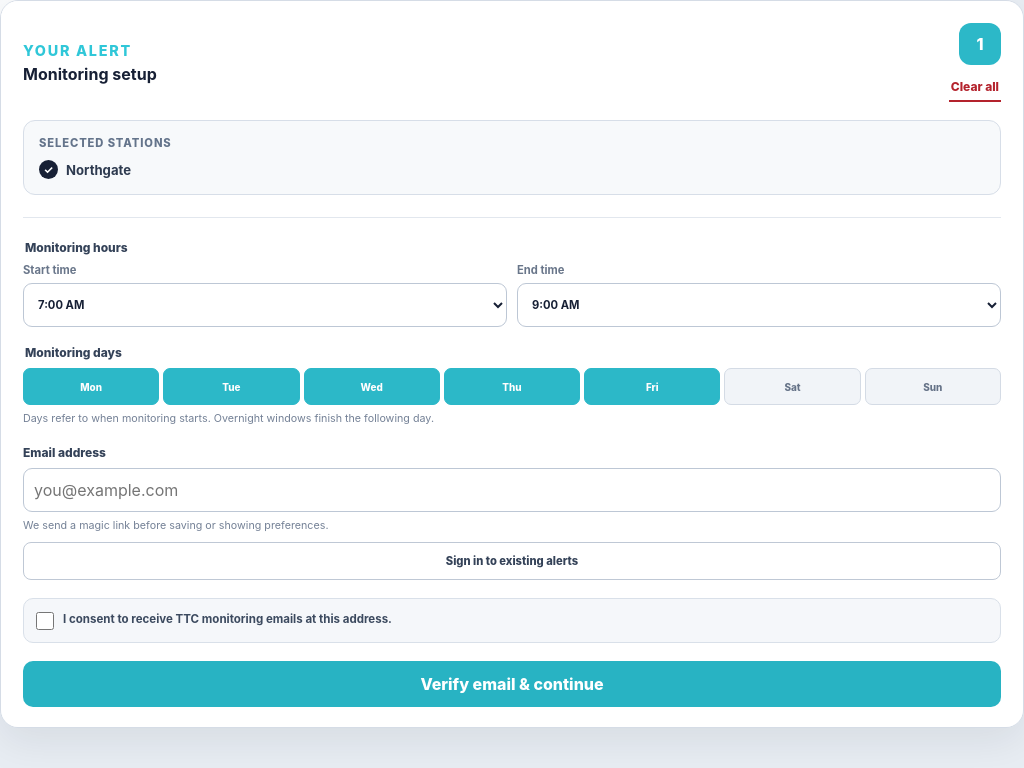
Scenario: secure monitoring preferences › sends a verification link and stores no email or consent locally
Step 1. Type "rider@example.com" into the field labelled "Email address" → (512, 490), box [23,468,1001,512]
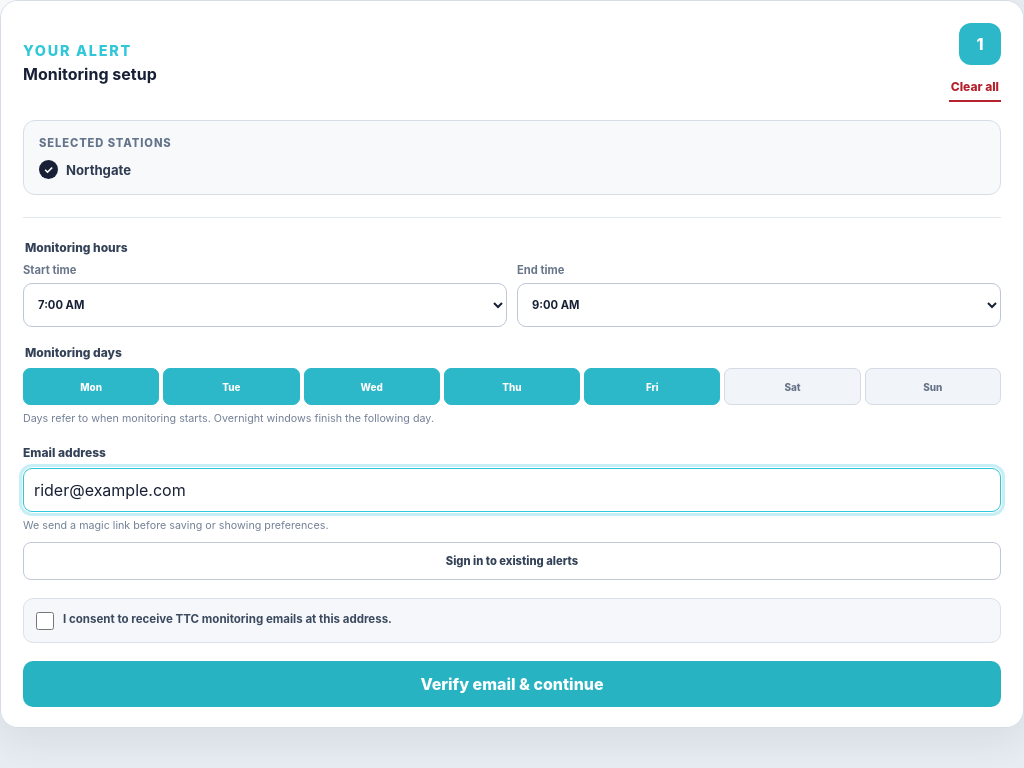
Step 2. Click the checkbox labelled "I consent to receive TTC monitoring emails at this address." → (45, 621), box [36,612,54,630]
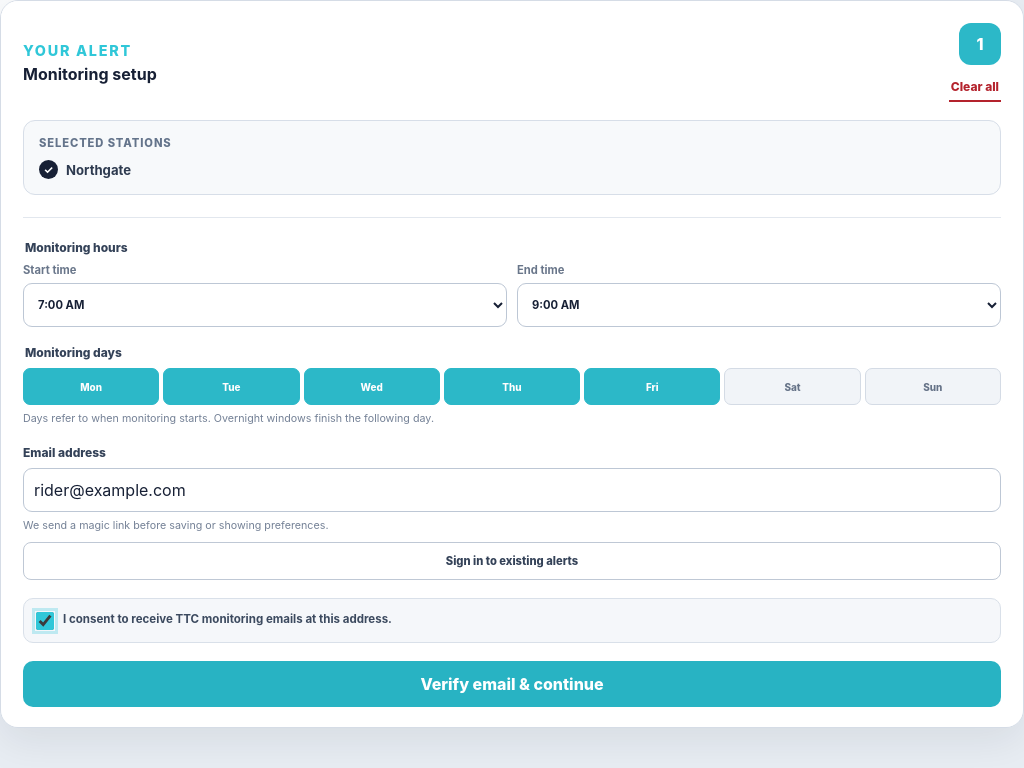
Step 3. Click the button "Verify email & continue" → (512, 684), box [23,661,1001,707]
(page scrolled)
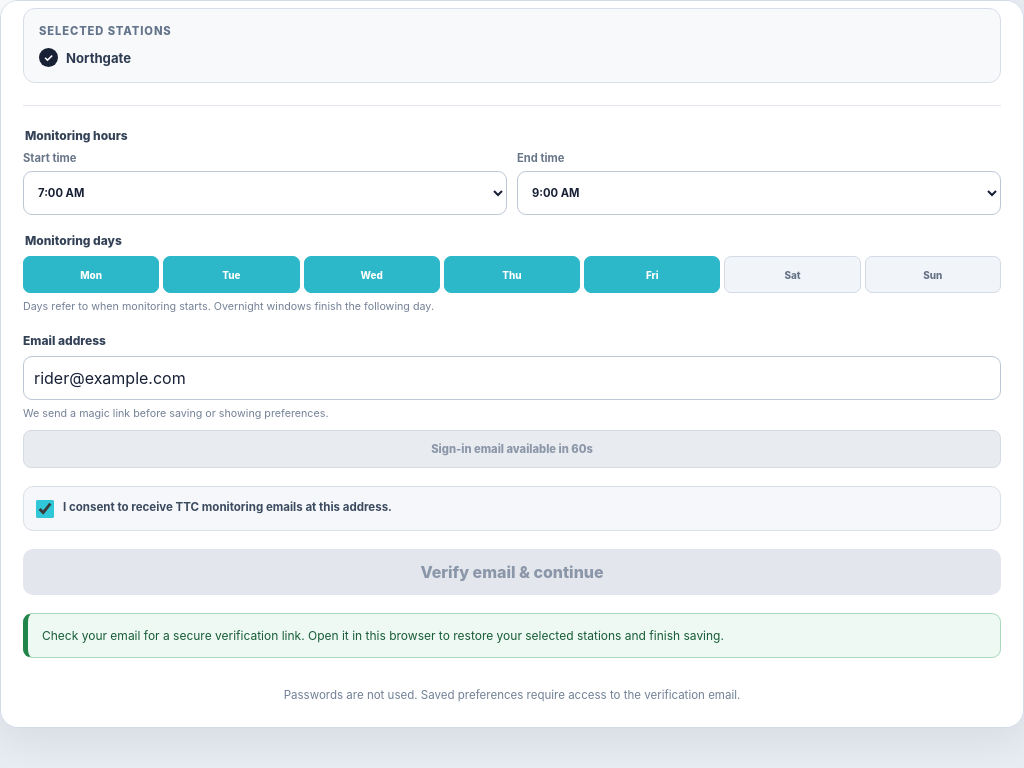
Now the message shows "Check your email for a secure verification link.", box [42,628,724,643]
